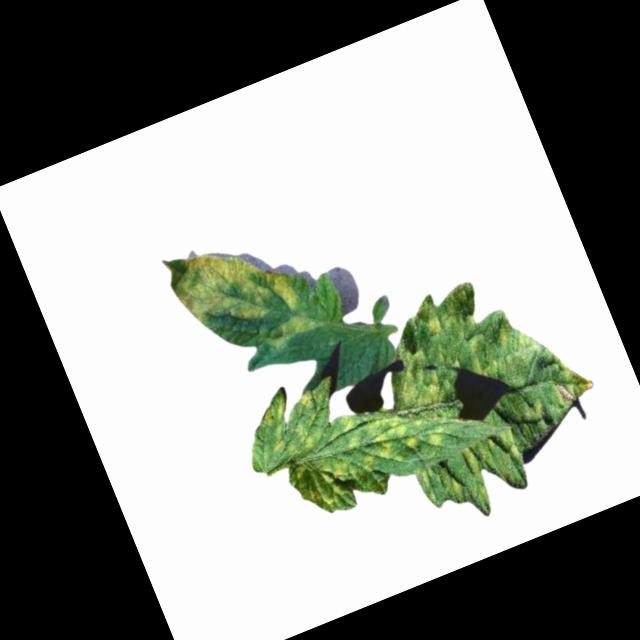Leaf_Mold: (355, 251, 624, 533), (228, 335, 458, 537), (158, 212, 323, 378)
